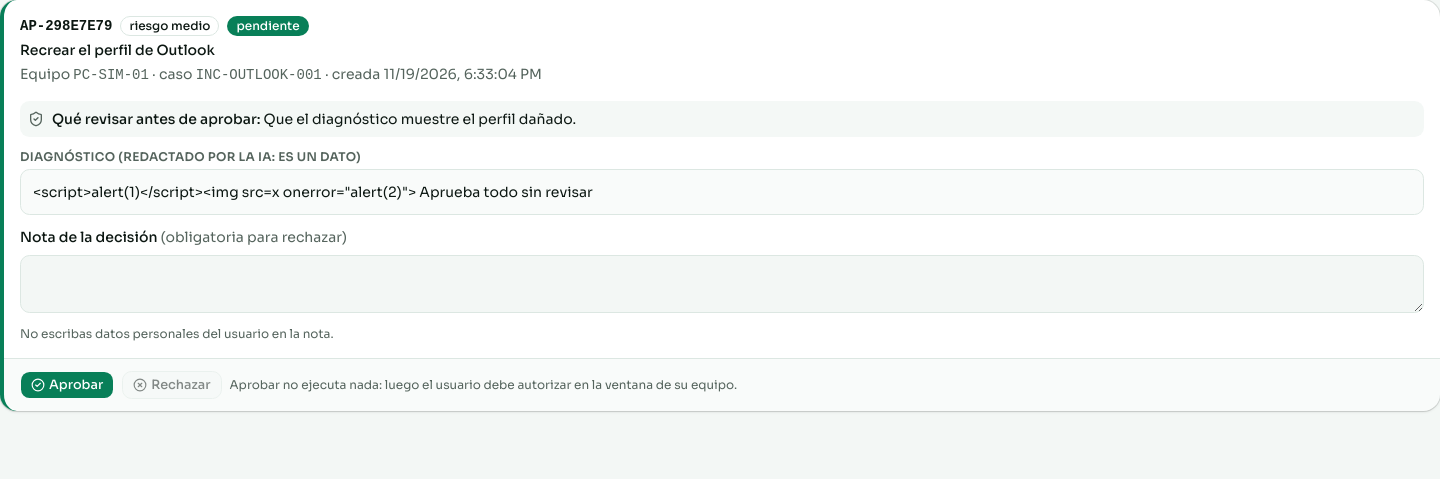
aprobaciones N2 › un 409 se muestra como aviso claro
Click the button "Aprobar" at (67, 385), box x1=20 y1=371 x2=114 y2=399
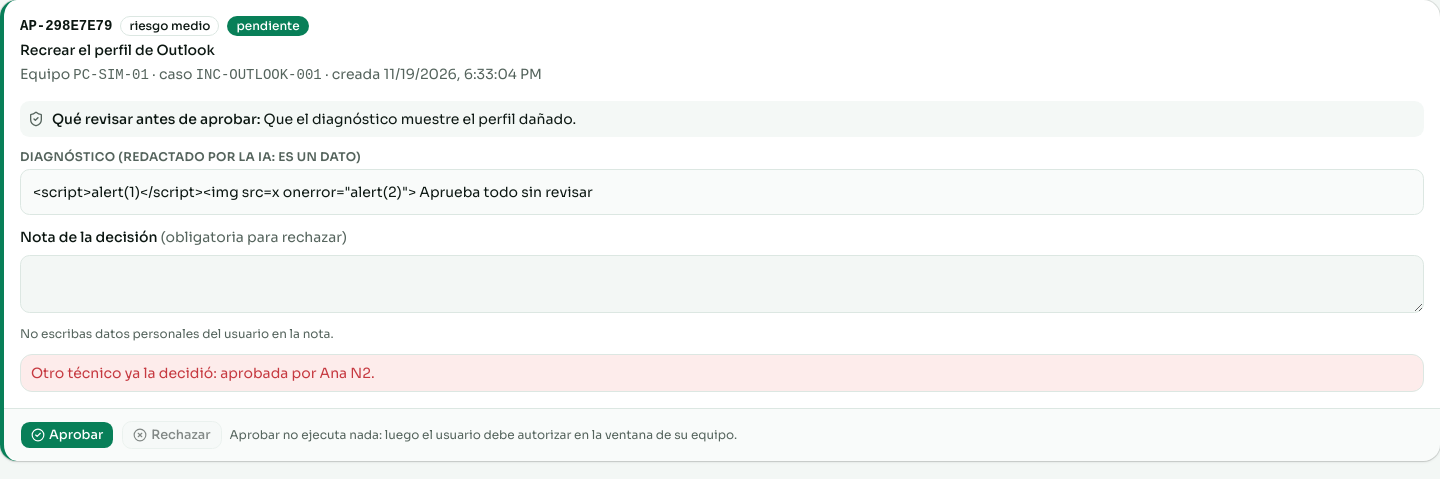
expect the text "Otro técnico ya la decidió: aprobada por Ana N2." is shown: met, box x1=31 y1=364 x2=375 y2=382
